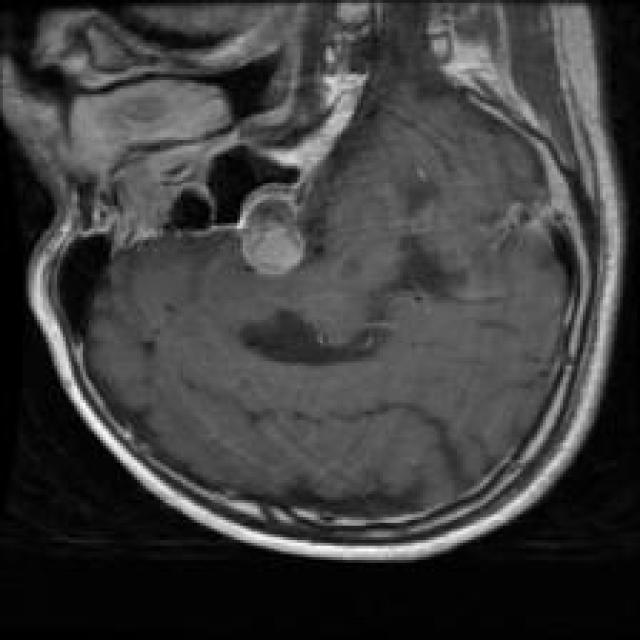pituitary_tumor: (224, 165, 332, 295)
